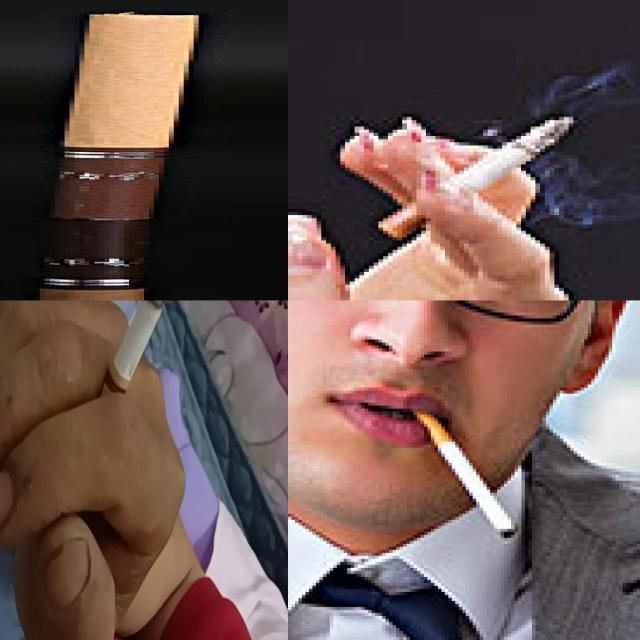smoking: (34, 12, 194, 300), (376, 115, 580, 239), (410, 402, 525, 536), (90, 300, 190, 434)
